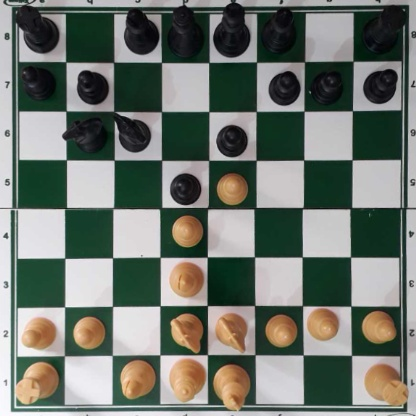black-bishop: (260, 4, 297, 55), (122, 5, 159, 53)
black-king: (213, 2, 251, 57)
black-knight: (65, 115, 105, 153), (112, 112, 151, 150)
black-pawn: (362, 67, 397, 104), (215, 120, 249, 156), (22, 64, 56, 99), (311, 67, 343, 103), (76, 67, 107, 104), (169, 171, 202, 205), (268, 71, 299, 105)
black-queen: (166, 5, 205, 56)
black-rook: (14, 1, 61, 53), (360, 6, 403, 52)
white-bishop: (119, 358, 154, 400), (169, 260, 204, 297)
white-king: (213, 360, 249, 411)
white-knight: (214, 312, 248, 351), (170, 314, 204, 352)
white-pawn: (19, 316, 58, 350), (361, 310, 397, 344), (72, 315, 106, 348), (306, 308, 339, 342), (264, 313, 298, 346), (215, 171, 249, 203), (171, 212, 203, 246)
white-queen: (169, 354, 204, 405)
white-rook: (363, 362, 409, 406), (14, 360, 59, 403)
